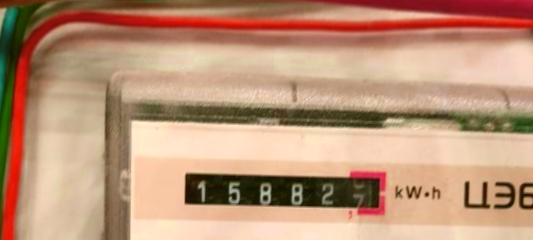1: (196, 176, 209, 203)
2: (320, 180, 337, 205)
5: (227, 178, 242, 205)
7: (351, 190, 366, 207)
8: (258, 179, 275, 205), (290, 180, 306, 205)
screen: (175, 160, 395, 223)
